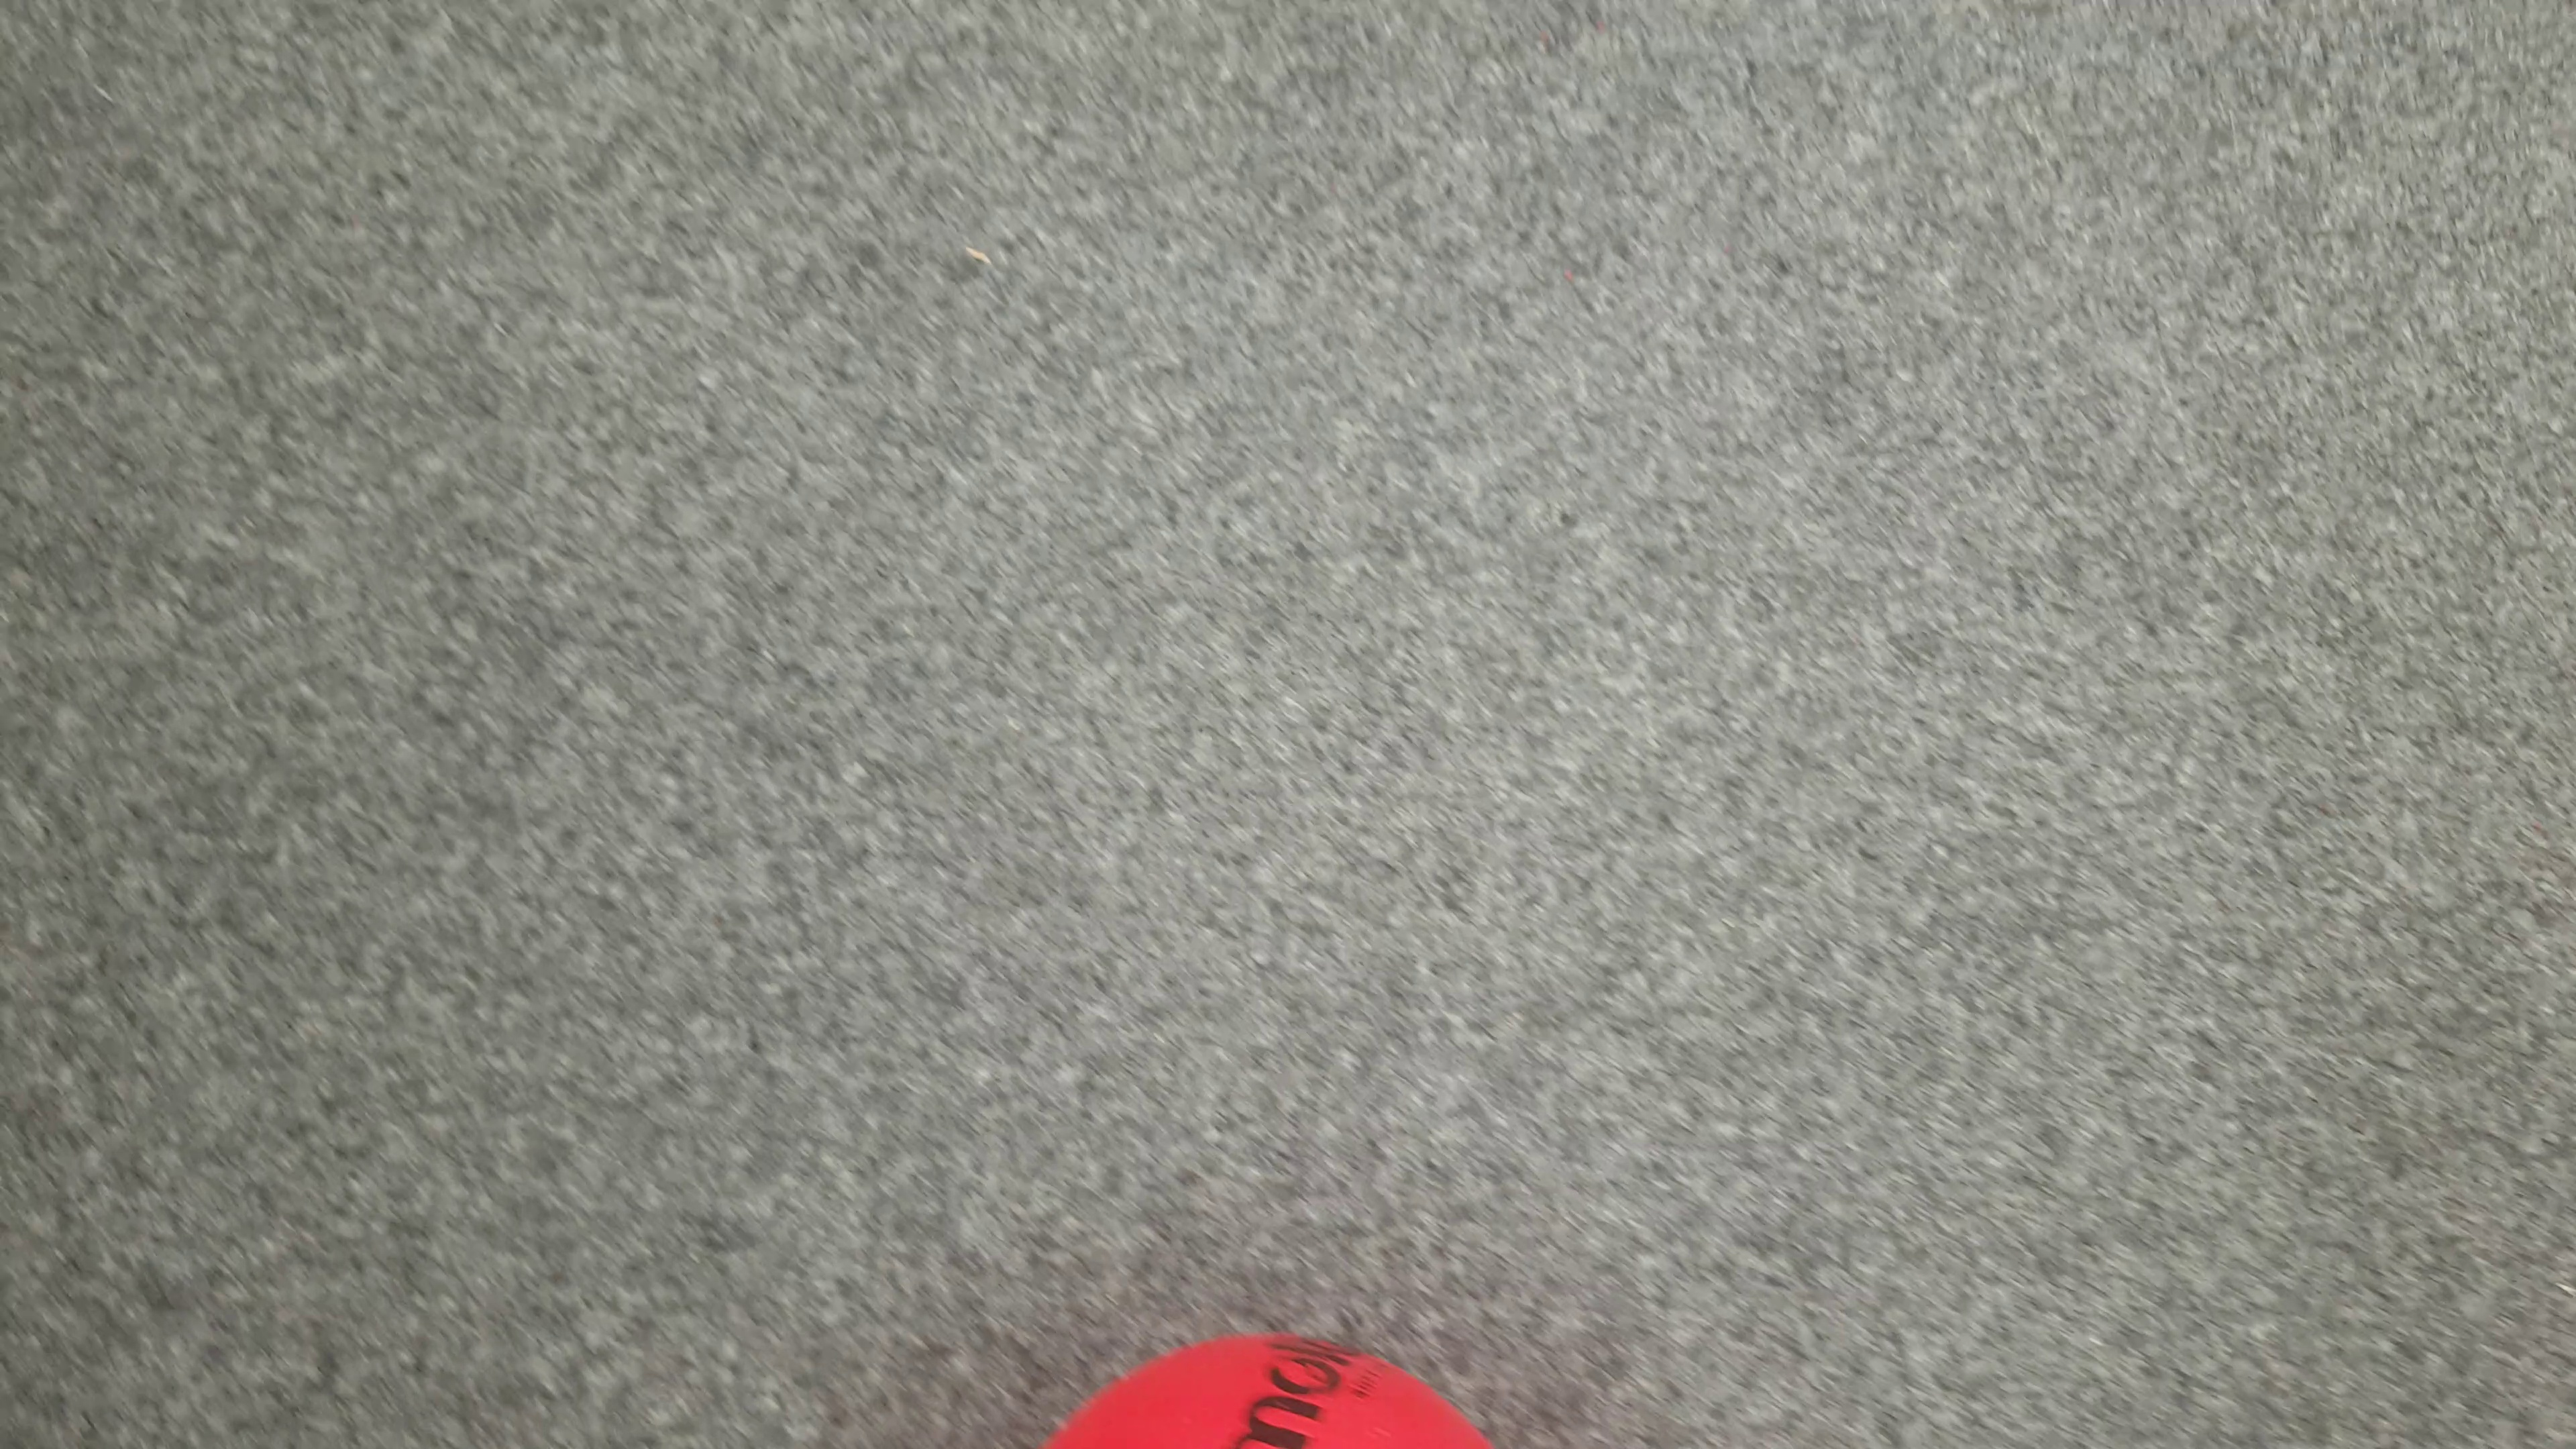kick: (1021, 1336, 1504, 1449)
